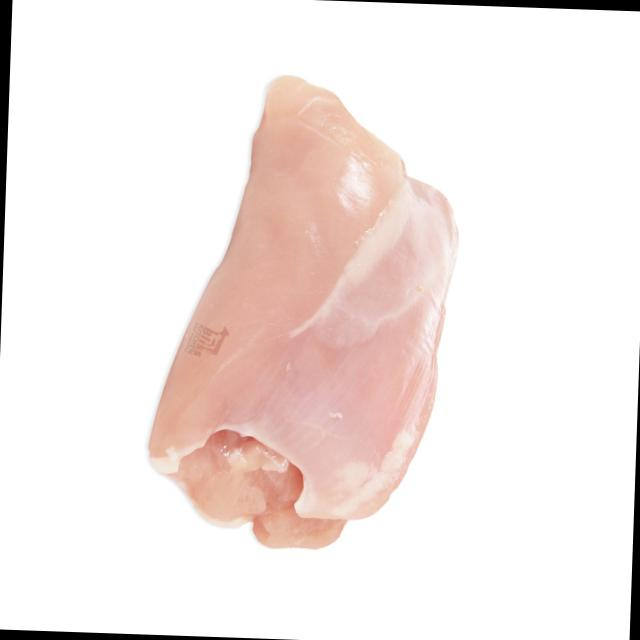chicken: (143, 72, 460, 556)
